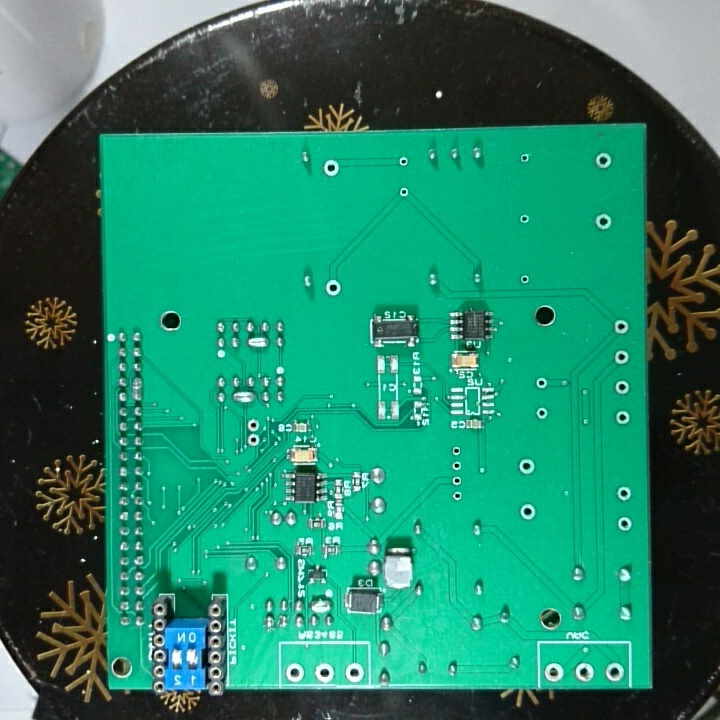F: (313, 660, 337, 683), (342, 660, 365, 683), (592, 210, 614, 233), (603, 660, 625, 683), (284, 661, 306, 683), (544, 660, 565, 683), (573, 660, 594, 683), (517, 455, 537, 477), (323, 277, 343, 298), (594, 150, 614, 171), (518, 502, 538, 522), (615, 483, 634, 503), (321, 158, 339, 179), (613, 315, 631, 336), (612, 378, 631, 397), (616, 515, 634, 535), (612, 349, 631, 367), (245, 432, 264, 450), (614, 409, 632, 426), (534, 374, 551, 392), (245, 416, 263, 432), (534, 405, 551, 421), (449, 473, 465, 488), (449, 459, 465, 473), (449, 489, 465, 503), (517, 151, 531, 166), (449, 443, 463, 458), (396, 155, 411, 168), (518, 212, 531, 226), (519, 272, 531, 286), (398, 186, 410, 198)
P: (231, 389, 258, 405), (307, 598, 334, 613), (245, 334, 270, 350), (131, 375, 145, 403)
